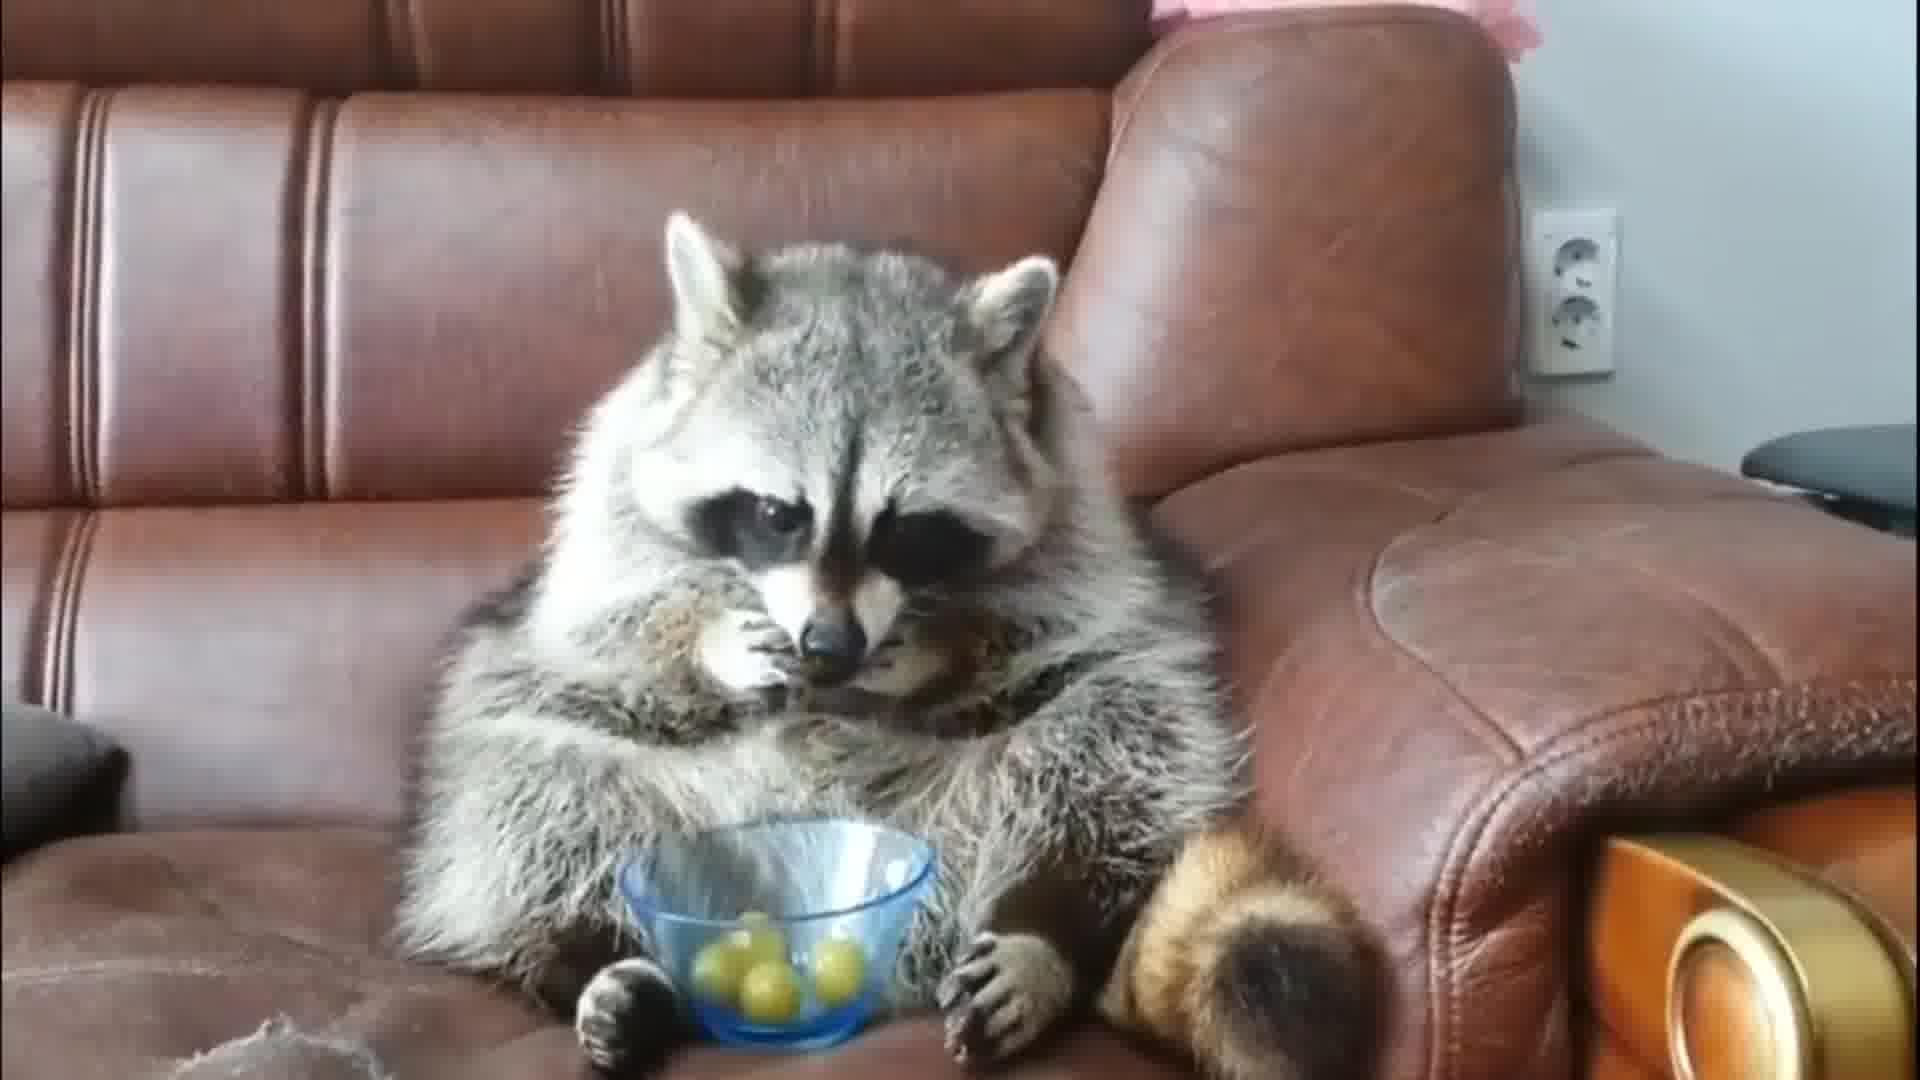raccoon: (386, 212, 1375, 1080)
